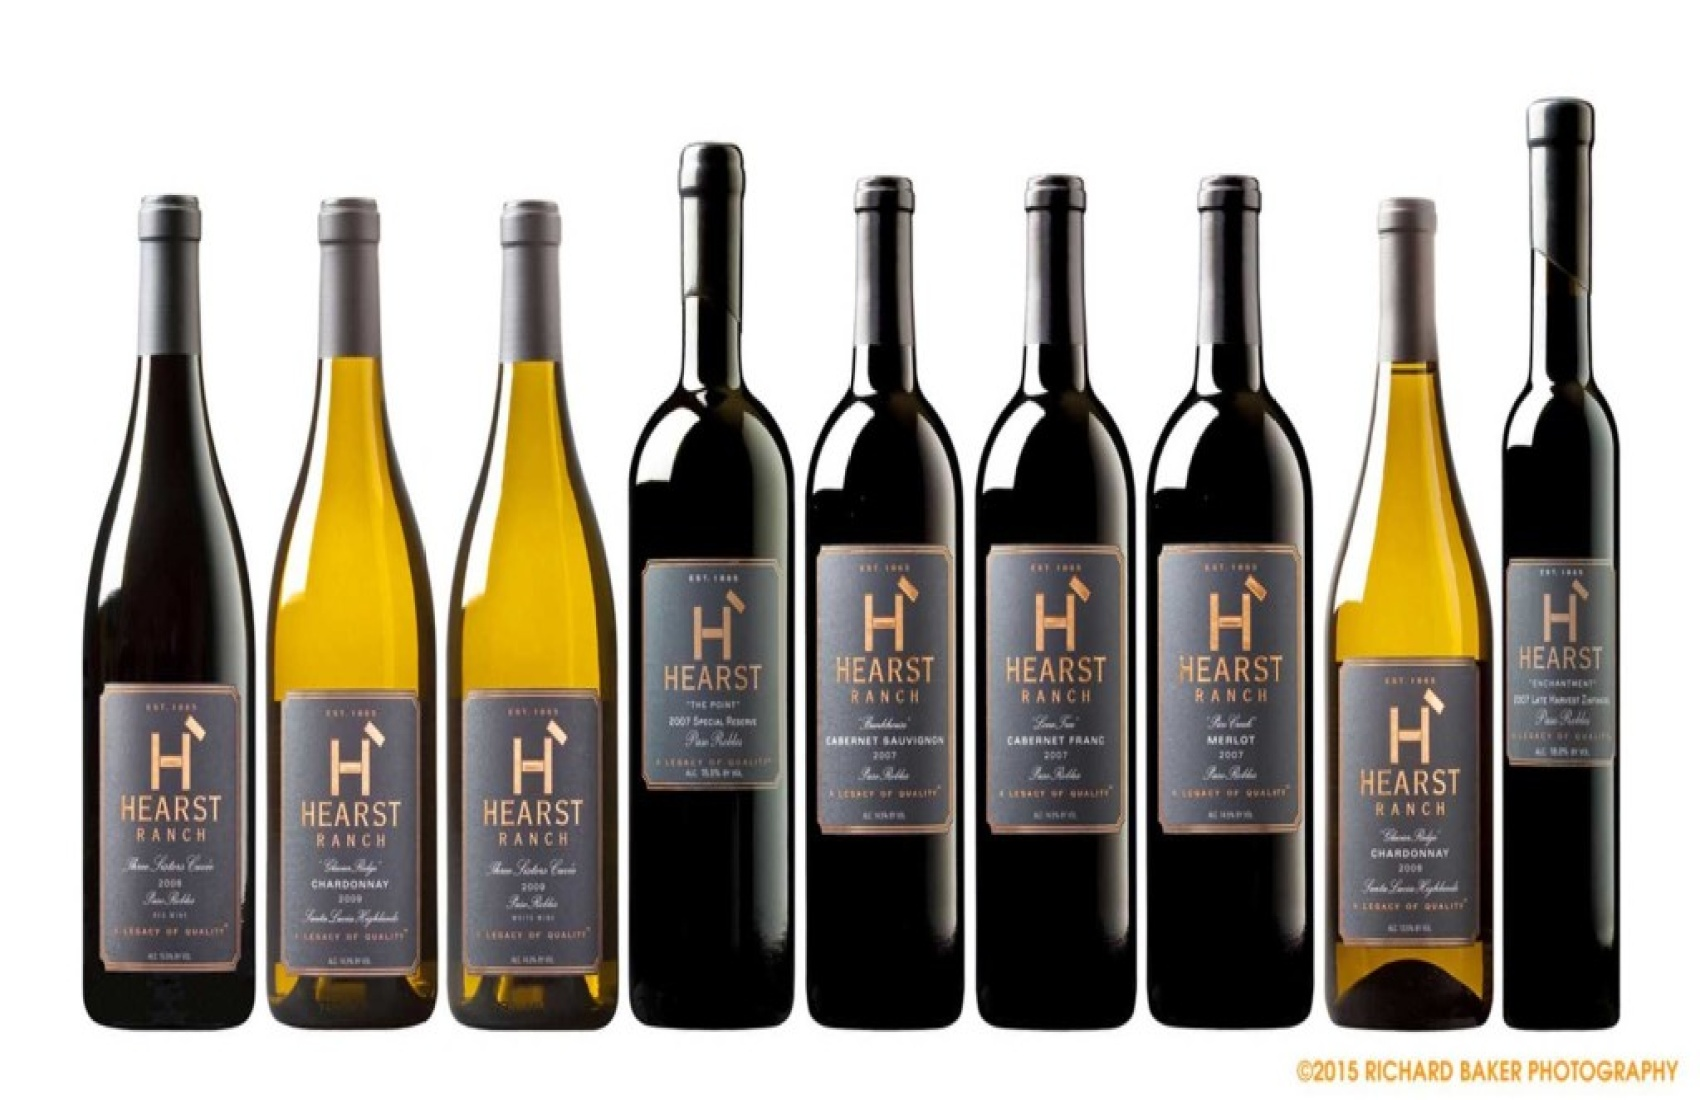wine: (805, 157, 970, 1019), (975, 164, 1140, 1026), (1142, 165, 1307, 1027), (803, 155, 968, 1017), (1331, 164, 1496, 1024), (87, 190, 252, 1021), (266, 194, 431, 1026), (450, 178, 615, 1010), (1507, 105, 1617, 1033)
